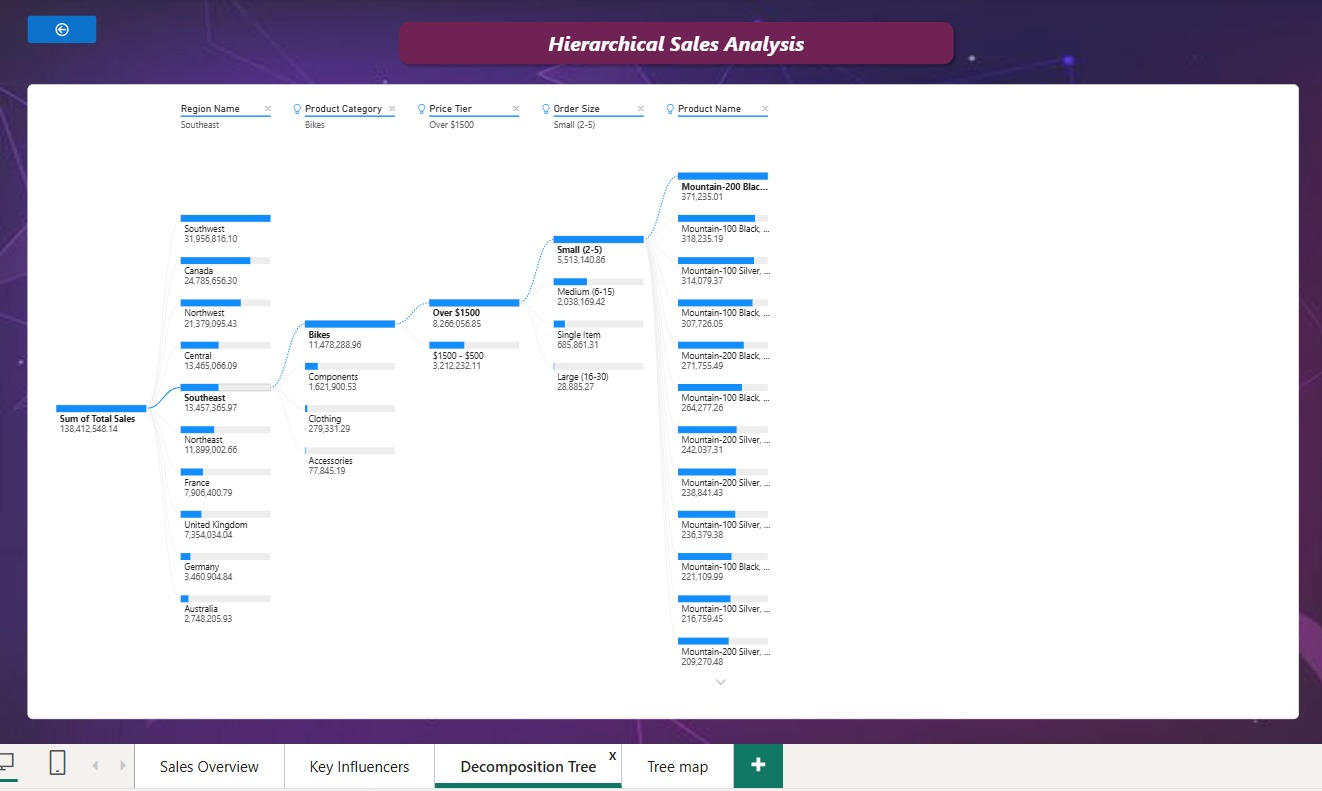

The page's visual inventory and layout, read from the dashboard file:
{"tool":"powerbi","page":{"name":"Decomposition Tree","canvas":[1920,1080],"ordinal":2},"visuals":[{"type":"decompositionTreeVisual","fields":{"Analyze":["Sum(Sales.Total Sales)"],"ExplainBy":["Region.Region Name","Product.Product Category","Product.Price Tier","Sales.Order Size","Product.Product Name"]},"box":[39.8,124.9,1840.4,919.3],"z":0},{"type":"actionButton","box":[39.8,25.3,100,40],"z":1000},{"type":"shape","box":[568.2,25.3,821.6,79.6],"z":2000}]}

Visuals, with their boxes on the page's 1920x1080 design canvas (x1, y1, x2, y2). These are canvas units, not pixel positions in the 1322x791 screenshot, which may show the page scaled, cropped or inside an application window:
decompositionTreeVisual - Sum(Sales.Total Sales) x Region.Region Name: box=[40, 125, 1880, 1044]
actionButton: box=[40, 25, 140, 65]
shape: box=[568, 25, 1390, 105]
